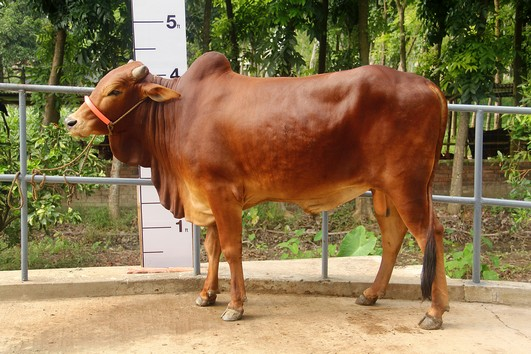cow: (60, 49, 461, 336)
